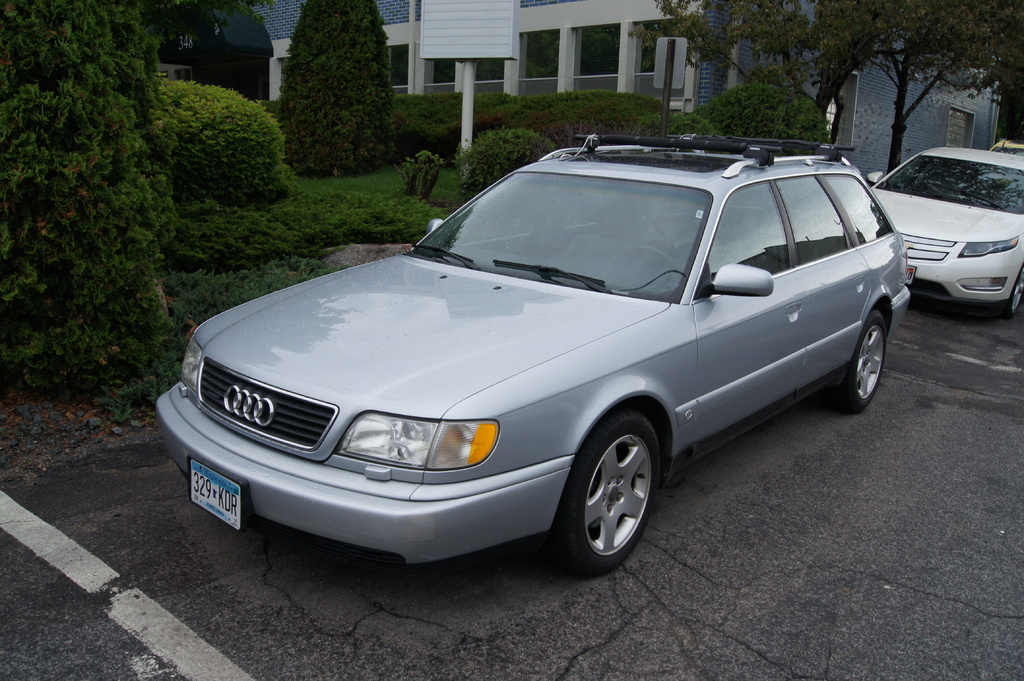Car: (155, 133, 910, 578), (866, 137, 1024, 320)
